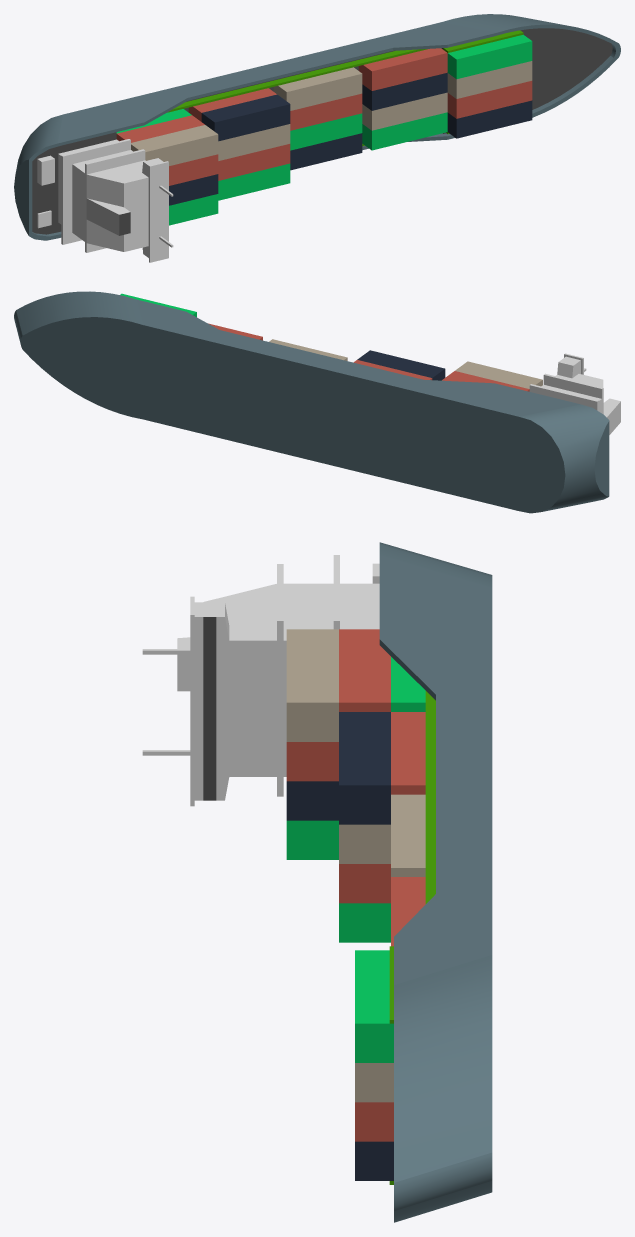
File: container_ship_loaded.dae
3 renders of one model, top to bottom at view 1: azimuth 30°, elevation 25°; view 2: azimuth 150°, elevation 25°; view 3: azimuth 270°, elevation 25°, orthographic. The views are drawn at different scales.
Parts seen in each view (by area): view 1: coords_ME_ID11_MA_material_16, coords_ME_ID19_MA_material_8, coords_ME_ID137_MA_material, coords_ME_ID253_MA_jean_blue, coords_ME_ID107_MA_material_22, coords_ME_ID131_MA_material_18, coords_ME_ID27_MA_material_13, coords_ME_ID3_MA_material_13, coords_ME_ID93_MA_material_18, coords_ME_ID175_MA_material_13, coords_ME_ID157_MA_jean_blue, coords_ME_ID59_MA_material_13 (+17 smaller); view 2: coords_ME_ID11_MA_material_16, coords_ME_ID19_MA_material_8, coords_ME_ID253_MA_jean_blue, coords_ME_ID3_MA_material_13, coords_ME_ID81_MA_material_22, coords_ME_ID27_MA_material_13, coords_ME_ID283_MA_material_22; view 3: coords_ME_ID11_MA_material_16, coords_ME_ID19_MA_material_8, coords_ME_ID3_MA_material_13, coords_ME_ID253_MA_jean_blue, coords_ME_ID131_MA_material_18, coords_ME_ID81_MA_material_22, coords_ME_ID283_MA_material_22, coords_ME_ID27_MA_material_13, coords_ME_ID259_MA_material, coords_ME_ID99_MA_material_1, coords_ME_ID205_MA_jean_blue, coords_ME_ID113_MA_material_18 (+9 smaller).
Part boxes in pixels (left/top/right/bottom): coords_ME_ID11_MA_material_16: left=14, top=14, right=620, bottom=240; coords_ME_ID19_MA_material_8: left=58, top=139, right=168, bottom=262; coords_ME_ID137_MA_material: left=32, top=28, right=612, bottom=234; coords_ME_ID253_MA_jean_blue: left=201, top=94, right=290, bottom=141; coords_ME_ID107_MA_material_22: left=358, top=48, right=447, bottom=90; coords_ME_ID131_MA_material_18: left=447, top=34, right=532, bottom=79; coords_ME_ID27_MA_material_13: left=273, top=67, right=362, bottom=110; coords_ME_ID3_MA_material_13: left=131, top=125, right=218, bottom=165; coords_ME_ID93_MA_material_18: left=362, top=112, right=447, bottom=150; coords_ME_ID175_MA_material_13: left=362, top=92, right=447, bottom=130; coords_ME_ID157_MA_jean_blue: left=362, top=72, right=447, bottom=110; coords_ME_ID59_MA_material_13: left=447, top=61, right=532, bottom=98; coords_ME_ID11_MA_material_16: left=14, top=291, right=609, bottom=513; coords_ME_ID19_MA_material_8: left=529, top=353, right=620, bottom=434; coords_ME_ID253_MA_jean_blue: left=357, top=350, right=445, bottom=380; coords_ME_ID3_MA_material_13: left=455, top=361, right=542, bottom=388; coords_ME_ID81_MA_material_22: left=442, top=371, right=529, bottom=391; coords_ME_ID27_MA_material_13: left=269, top=339, right=347, bottom=360; coords_ME_ID283_MA_material_22: left=353, top=360, right=432, bottom=380; coords_ME_ID11_MA_material_16: left=379, top=542, right=492, bottom=1222; coords_ME_ID19_MA_material_8: left=177, top=555, right=379, bottom=806; coords_ME_ID3_MA_material_13: left=286, top=629, right=338, bottom=741; coords_ME_ID253_MA_jean_blue: left=339, top=712, right=390, bottom=824; coords_ME_ID131_MA_material_18: left=355, top=950, right=393, bottom=1062; coords_ME_ID81_MA_material_22: left=339, top=629, right=390, bottom=711; coords_ME_ID283_MA_material_22: left=391, top=712, right=425, bottom=794; coords_ME_ID27_MA_material_13: left=391, top=794, right=425, bottom=876; coords_ME_ID259_MA_material: left=203, top=617, right=216, bottom=800; coords_ME_ID99_MA_material_1: left=425, top=691, right=435, bottom=903; coords_ME_ID205_MA_jean_blue: left=286, top=781, right=338, bottom=820; coords_ME_ID113_MA_material_18: left=286, top=820, right=338, bottom=859.
Size of the model in its own units: 992 by 153 by 254.
